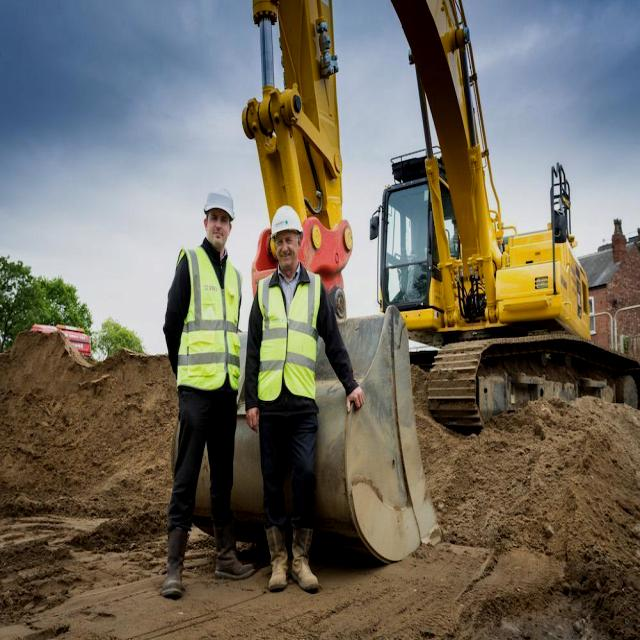face_nomask: (205, 204, 235, 252), (276, 234, 304, 276)
hand_noglove: (343, 378, 372, 416), (242, 400, 262, 438)
head_helmet: (272, 205, 304, 238), (204, 187, 234, 218)
person: (244, 206, 363, 591), (160, 189, 252, 599)
shoes: (213, 516, 253, 584), (160, 525, 193, 604), (289, 521, 321, 592), (265, 525, 291, 596)
vest: (176, 245, 244, 384), (254, 268, 322, 406)
